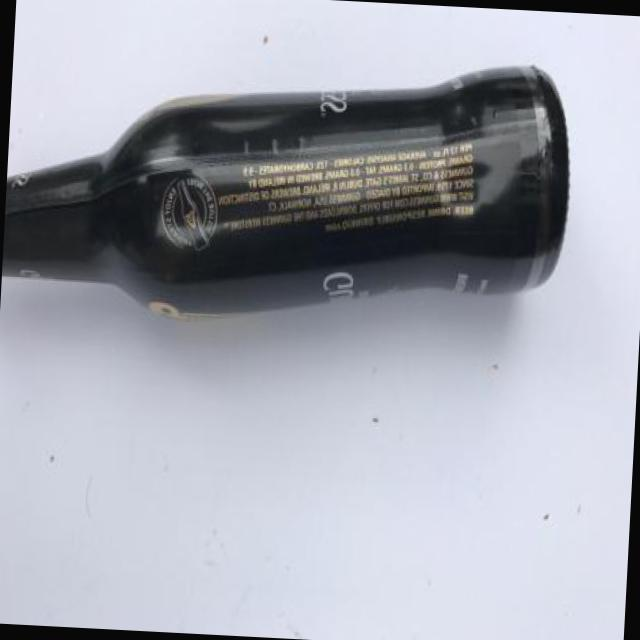chai_thuy_tinh: (2, 66, 569, 312)
